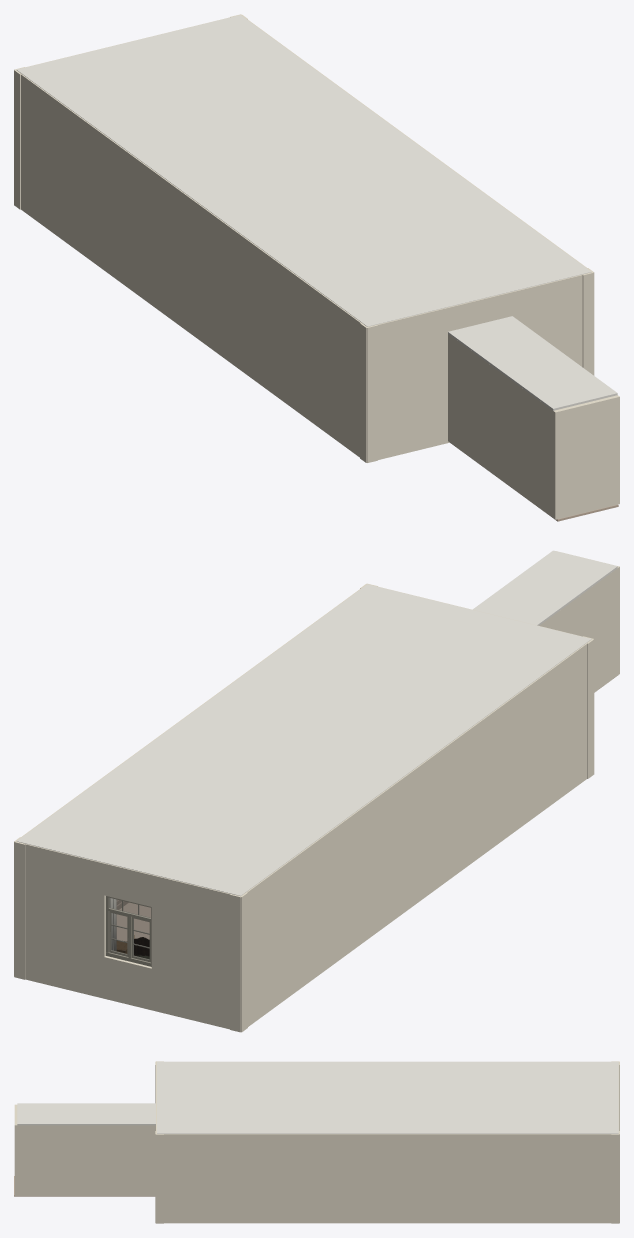
Rendered from room.glb.
The picture shows the model from 3 angles, top to bottom: view 1: azimuth 30°, elevation 25°; view 2: azimuth 150°, elevation 25°; view 3: azimuth 270°, elevation 25°; orthographic projection. The views are drawn at different scales.
Parts seen in each view (by area): view 1: ceiling, wall_left, wall_left_lo, cor_wall_l, wall_near_r, cor_end, cor_ceiling, wall_near_l, wall_right, wall_far_l, wall_near_top; view 2: ceiling, wall_left, wall_left_lo, wall_far_l, wall_far_r, cor_ceiling, cor_wall_l, wall_far_bot, window_glass, wall_right, wall_far_top, window_frame (+2 smaller); view 3: ceiling, wall_right, wall_right_lo, cor_wall_r, cor_ceiling, wall_far_r, wall_near_l, cor_end.
Part boxes in pixels (x1=…): ceiling: x1=17, y1=15, x2=591, y2=326; wall_left: x1=14, y1=67, x2=377, y2=422; wall_left_lo: x1=21, y1=169, x2=377, y2=462; cor_wall_l: x1=448, y1=334, x2=553, y2=517; wall_near_r: x1=360, y1=304, x2=461, y2=462; cor_end: x1=553, y1=395, x2=619, y2=519; cor_ceiling: x1=448, y1=316, x2=617, y2=410; wall_near_l: x1=498, y1=268, x2=594, y2=375; wall_right: x1=230, y1=14, x2=593, y2=369; wall_far_l: x1=14, y1=48, x2=103, y2=209; wall_near_top: x1=461, y1=295, x2=498, y2=328; ceiling: x1=16, y1=584, x2=591, y2=896; wall_left: x1=230, y1=636, x2=593, y2=991; wall_left_lo: x1=230, y1=738, x2=587, y2=1032; wall_far_l: x1=151, y1=875, x2=247, y2=1032; wall_far_r: x1=14, y1=837, x2=110, y2=998; cor_ceiling: x1=473, y1=550, x2=617, y2=625; cor_wall_l: x1=539, y1=568, x2=617, y2=692; wall_far_bot: x1=104, y1=956, x2=151, y2=1010; window_glass: x1=109, y1=898, x2=150, y2=959; wall_right: x1=14, y1=583, x2=377, y2=938; wall_far_top: x1=104, y1=863, x2=151, y2=906; window_frame: x1=106, y1=896, x2=151, y2=966; ceiling: x1=157, y1=1061, x2=618, y2=1133; wall_right: x1=155, y1=1131, x2=619, y2=1196; wall_right_lo: x1=155, y1=1196, x2=619, y2=1223; cor_wall_r: x1=17, y1=1125, x2=155, y2=1195; cor_ceiling: x1=17, y1=1103, x2=155, y2=1125; wall_far_r: x1=611, y1=1106, x2=619, y2=1223; wall_near_l: x1=156, y1=1104, x2=163, y2=1223; cor_end: x1=14, y1=1104, x2=17, y2=1195.
Bounding box in the file's own units: 6 × 3.41 × 21.
Materials: 69 (20 with a texture image).
